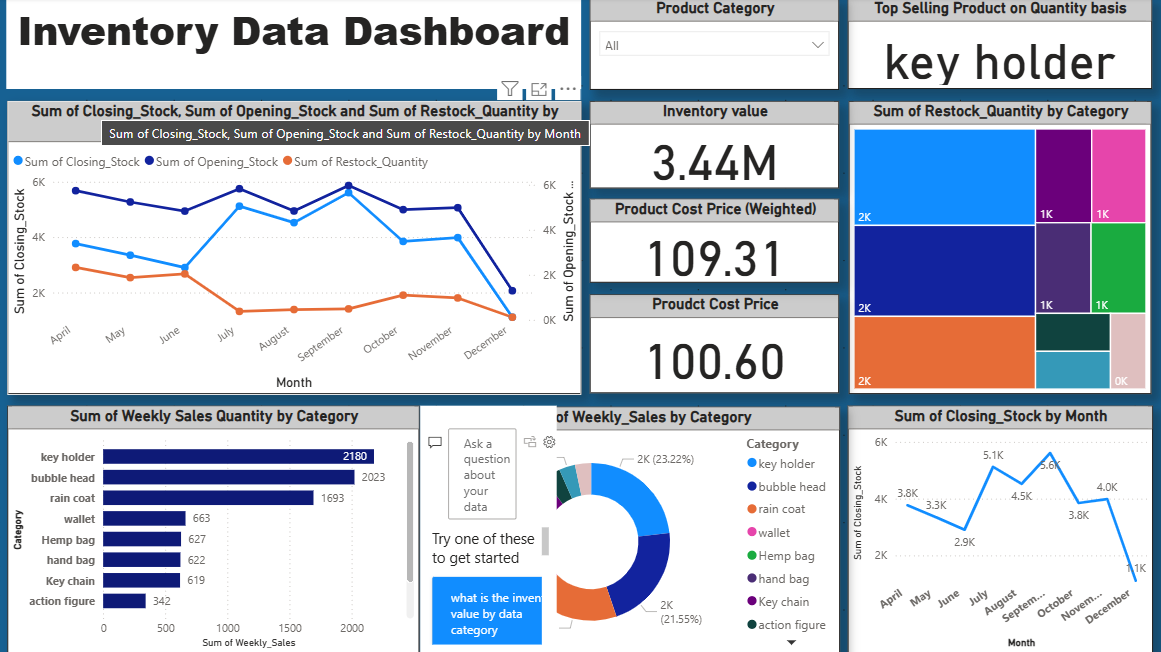

This screenshot's page, from the dashboard's own definition file:
{"tool":"powerbi","page":{"name":"Page 2","canvas":[1280,720],"ordinal":1},"visuals":[{"type":"textbox","box":[8.2,0,631.8,100],"z":0},{"type":"card","title":"Top Selling Product on Quantity basis","fields":{"Values":["Data.Top_selling_Product"]},"box":[933,0,334.2,100],"z":1000},{"type":"lineChart","fields":{"Category":["Inventory_Data.Week_Start_Date.Variation.Date Hierarchy.Month"],"Y":["Inventory_Data.Closing_Stock"],"Y2":["Inventory_Data.Opening_Stock","Inventory_Data.Restock_Quantity"]},"box":[9.5,112.8,630.6,322.1],"z":2000},{"type":"treemap","fields":{"Group":["Inventory_Data.Category"],"Values":["Inventory_Data.Restock_Quantity"]},"box":[933.6,112.8,332.9,322.1],"z":3000},{"type":"slicer","title":"Product Category","fields":{"Values":["Inventory_Data.Category"]},"box":[649.6,0,274.5,100.6],"z":4000},{"type":"lineChart","fields":{"Category":["Inventory_Data.Week_Start_Date.Variation.Date Hierarchy.Month"],"Y":["Inventory_Data.Closing_Stock"]},"box":[933,448.3,335.3,271.8],"z":5000},{"type":"card","title":"Inventory value","fields":{"Values":["Data.Inventory Value"]},"box":[649.6,112.8,274.5,96.5],"z":6000},{"type":"card","title":"Proudct Cost Price","fields":{"Values":["Data.Product Cost Price"]},"box":[649.6,326.1,274.5,108.7],"z":7000},{"type":"card","title":"Product Cost Price (Weighted)","fields":{"Values":["Data.Product Cost Price (Weighted)"]},"box":[649.6,220.1,274.5,92.4],"z":8000},{"type":"barChart","title":"Sum of Weekly Sales Quantity by Category","fields":{"Category":["Inventory_Data.Category"],"Y":["Inventory_Data.Weekly_Sales"]},"box":[9.4,448.3,453,271.8],"z":9000},{"type":"donutChart","fields":{"Category":["Inventory_Data.Category"],"Y":["Inventory_Data.Weekly_Sales"]},"box":[474.4,448.7,450.3,271.8],"z":10000}]}

Visuals, with their boxes in screenshot pixels (x1, y1, x2, y2), scaled from the page's 1280x720 canvas onto the 1161x652 screenshot:
textbox: box=[7, 0, 580, 91]
"Top Selling Product on Quantity basis" card: box=[846, 0, 1149, 91]
lineChart - Inventory_Data.Week_Start_Date.Variation.Date Hierarchy.Month x Inventory_Data.Closing_Stock: box=[9, 102, 581, 394]
treemap - Inventory_Data.Category x Inventory_Data.Restock_Quantity: box=[847, 102, 1149, 394]
"Product Category" slicer: box=[589, 0, 838, 91]
lineChart - Inventory_Data.Week_Start_Date.Variation.Date Hierarchy.Month x Inventory_Data.Closing_Stock: box=[846, 406, 1150, 651]
"Inventory value" card: box=[589, 102, 838, 190]
"Proudct Cost Price" card: box=[589, 295, 838, 394]
"Product Cost Price (Weighted)" card: box=[589, 199, 838, 283]
"Sum of Weekly Sales Quantity by Category" barChart: box=[9, 406, 419, 651]
donutChart - Inventory_Data.Category x Inventory_Data.Weekly_Sales: box=[430, 406, 839, 651]
